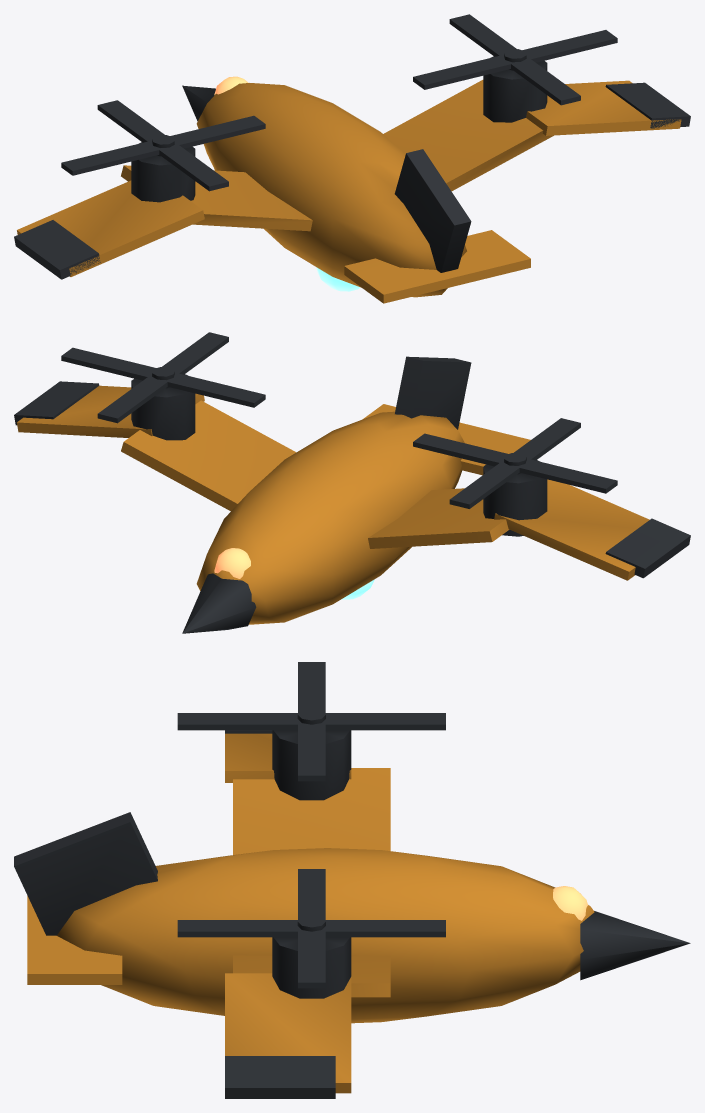
Rendered from drone.0f5e568a.glb.
3 renders of one model, top to bottom at view 1: azimuth 30°, elevation 25°; view 2: azimuth 150°, elevation 25°; view 3: azimuth 270°, elevation 25°, orthographic. The views are drawn at different scales.
Visible parts, largest first — view 1: Body, Rotor_1, Rotor_0; view 2: Body, Rotor_0, Rotor_1, Eye; view 3: Body, Rotor_0, Rotor_1, Eye.
Part boxes in pixels (x1=…): Body: x1=14, y1=56, x2=690, y2=303; Rotor_1: x1=413, y1=14, x2=617, y2=105; Rotor_0: x1=61, y1=100, x2=265, y2=191; Body: x1=14, y1=356, x2=690, y2=633; Rotor_0: x1=413, y1=418, x2=617, y2=508; Rotor_1: x1=61, y1=332, x2=265, y2=423; Eye: x1=214, y1=548, x2=250, y2=578; Body: x1=14, y1=730, x2=690, y2=1098; Rotor_0: x1=177, y1=662, x2=445, y2=781; Rotor_1: x1=177, y1=869, x2=445, y2=988; Eye: x1=553, y1=886, x2=587, y2=920.
Bounding box in the file's own units: 1.11 × 0.3164 × 0.857.
